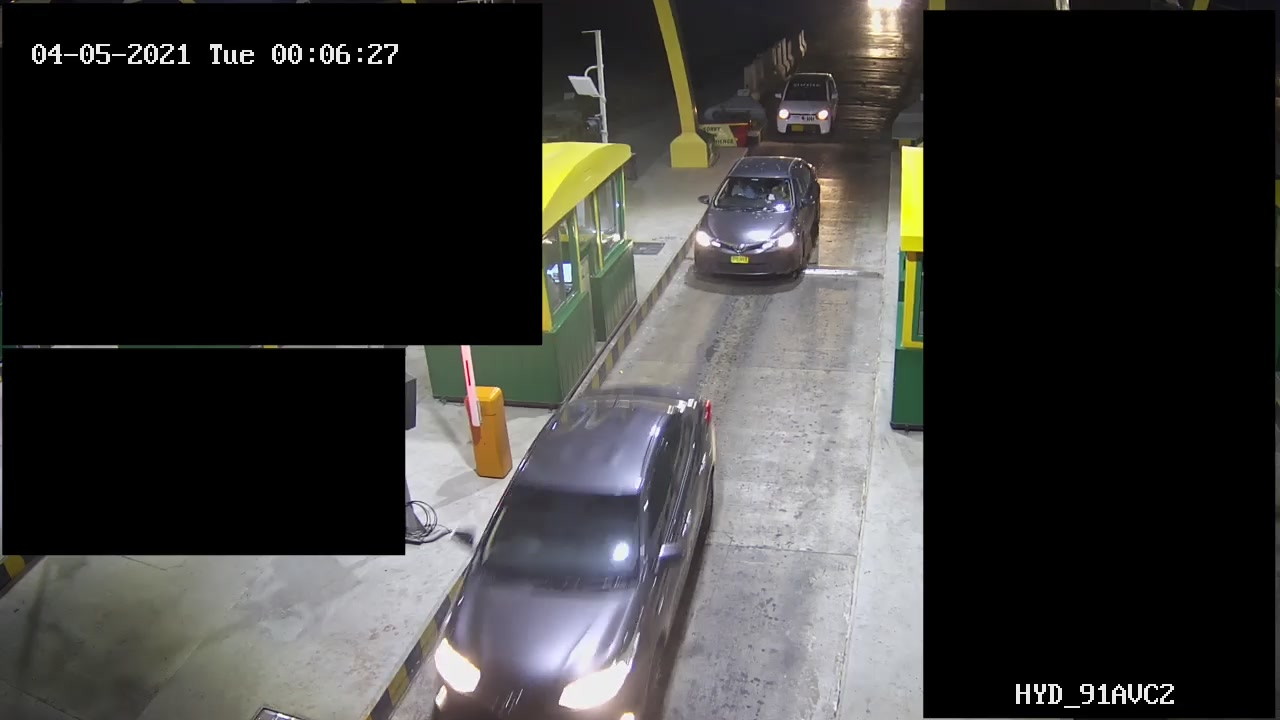F1: (688, 146, 837, 288)
